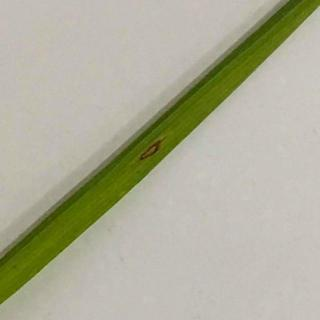Blast: (140, 140, 163, 162)
